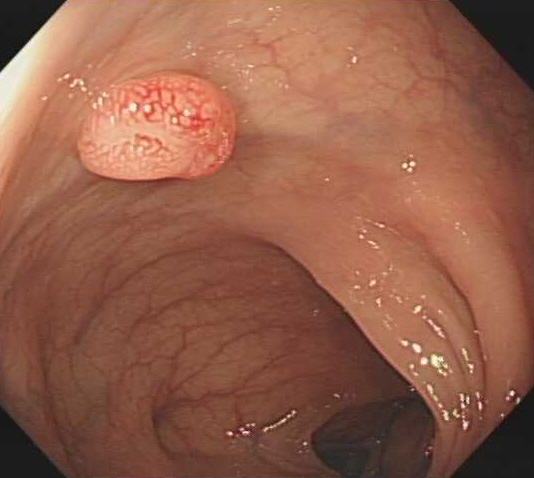others: (75, 71, 239, 183)
